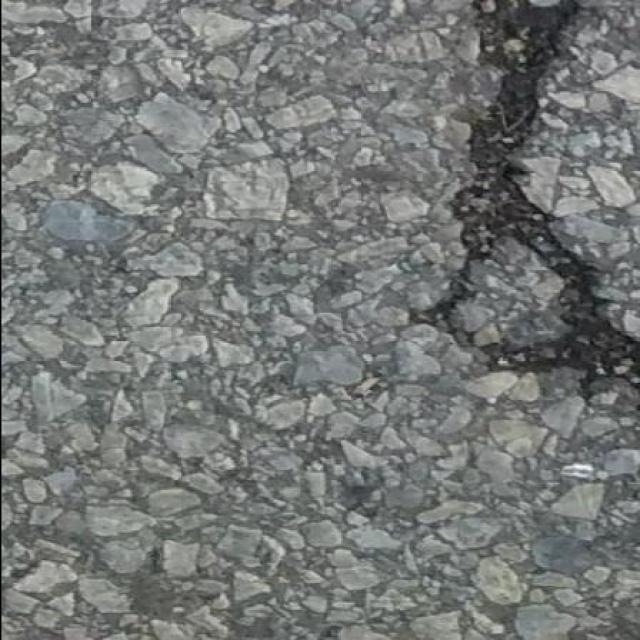Crack: (417, 0, 640, 419)
